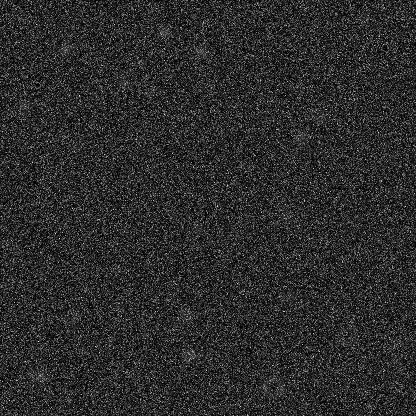Ring: (335, 324, 359, 348), (261, 374, 285, 398)
Spot: (182, 347, 198, 363), (293, 129, 309, 145), (69, 140, 85, 156), (110, 298, 126, 314), (57, 41, 73, 57), (140, 85, 156, 101), (282, 288, 298, 304), (355, 12, 371, 28), (177, 308, 193, 324), (190, 220, 206, 236), (116, 73, 132, 89), (32, 368, 48, 384), (156, 24, 172, 40), (16, 99, 32, 115), (67, 308, 83, 324), (313, 108, 329, 124), (277, 207, 293, 223), (193, 43, 209, 59)
